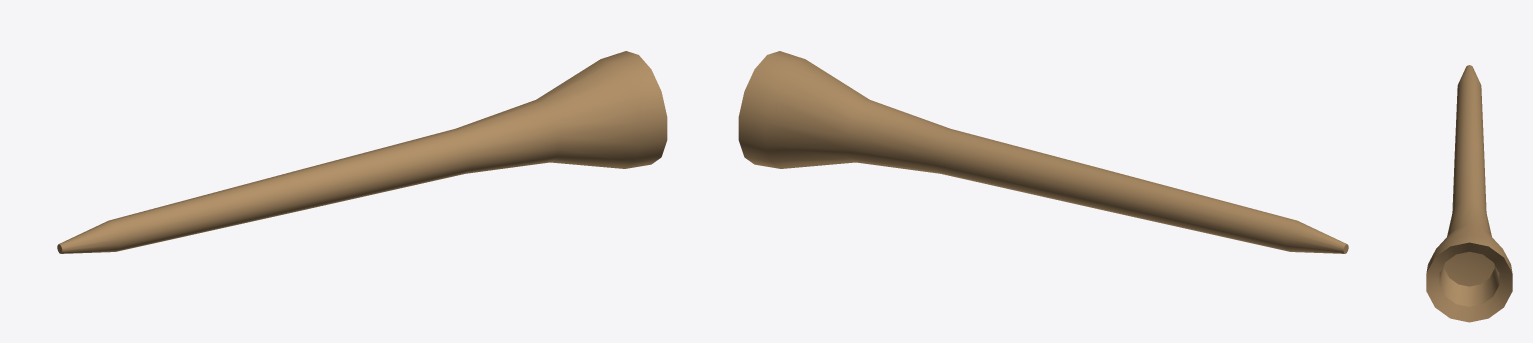
File: pf_tee_loose_wood.glb
The picture shows the model from 3 angles, left to right: view 1: azimuth 30°, elevation 25°; view 2: azimuth 150°, elevation 25°; view 3: azimuth 270°, elevation 25°; orthographic projection. The views are drawn at different scales.
Parts seen in each view (by area): view 1: pf_tee_loose_wood_body; view 2: pf_tee_loose_wood_body; view 3: pf_tee_loose_wood_body.
Boxes of the visible parts, x1=… form: pf_tee_loose_wood_body: x1=57, y1=51, x2=667, y2=253; pf_tee_loose_wood_body: x1=738, y1=51, x2=1348, y2=253; pf_tee_loose_wood_body: x1=1426, y1=65, x2=1512, y2=322.
Size of the model in its own units: 0.07 by 0.013 by 0.013.
